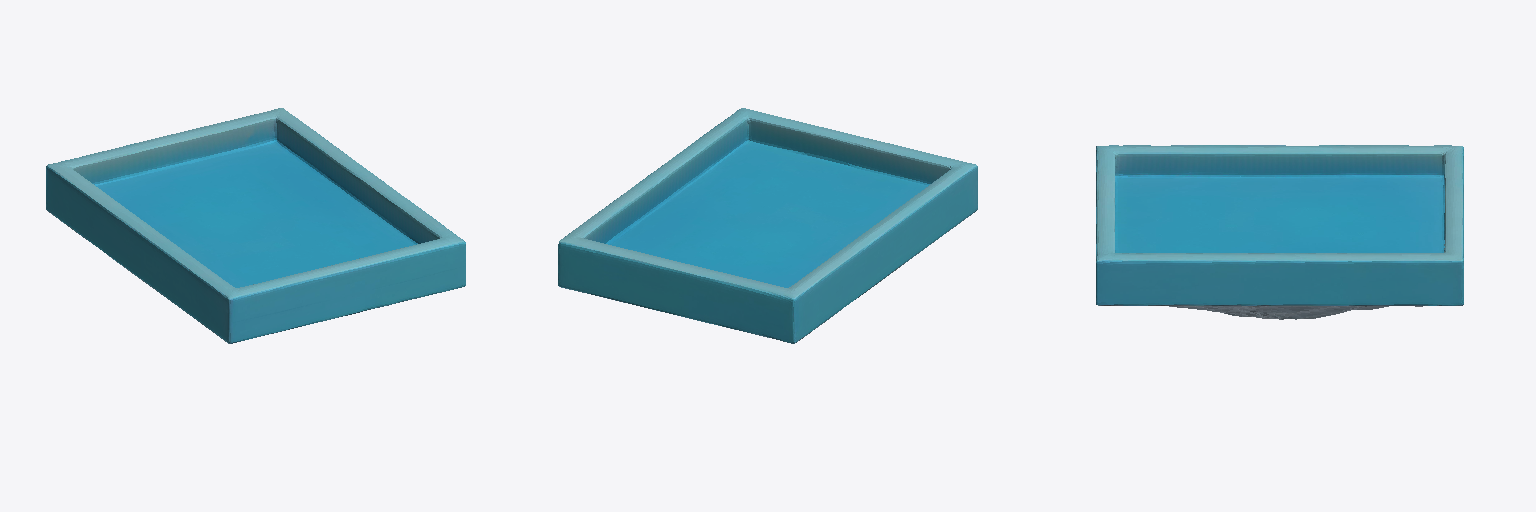
3 views of the same model, side by side, from view 1: azimuth 30°, elevation 25°; view 2: azimuth 150°, elevation 25°; view 3: azimuth 270°, elevation 25° (orthographic).
Parts seen in each view (by area): view 1: tripo_node_64583dcb-105b-46a1-af0d-301ffb22a8ee; view 2: tripo_node_64583dcb-105b-46a1-af0d-301ffb22a8ee; view 3: tripo_node_64583dcb-105b-46a1-af0d-301ffb22a8ee.
Boxes of the visible parts, x1,y1,x2,y2 form: tripo_node_64583dcb-105b-46a1-af0d-301ffb22a8ee: [46, 108, 465, 343]; tripo_node_64583dcb-105b-46a1-af0d-301ffb22a8ee: [558, 108, 977, 343]; tripo_node_64583dcb-105b-46a1-af0d-301ffb22a8ee: [1096, 145, 1463, 319].
Size of the model in its own units: 0.7072 by 0.3108 by 0.9484.
1 materials, 1 textured.